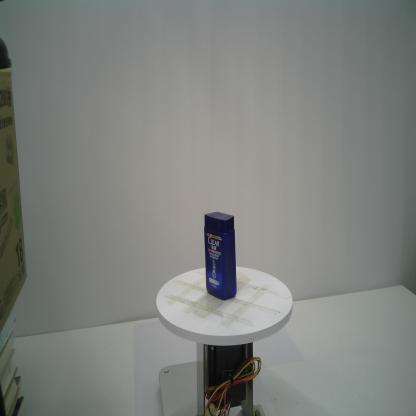Personal Hygiene: (204, 211, 237, 301)
